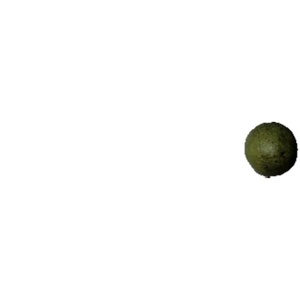abacate: (245, 120, 297, 178)
